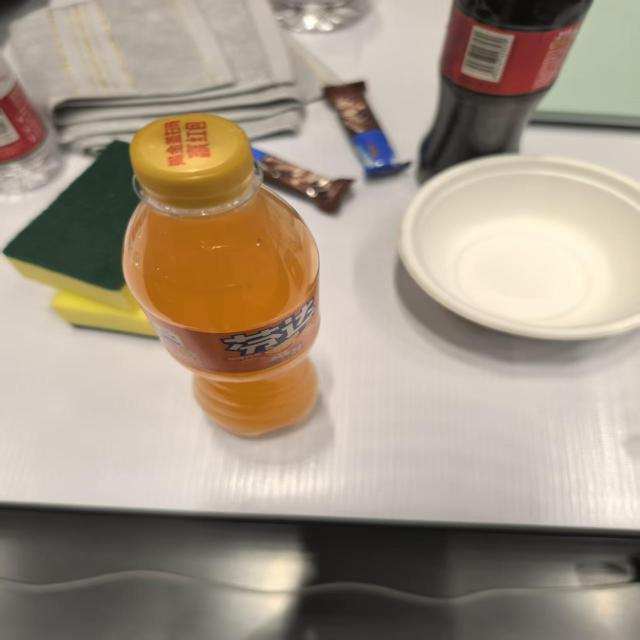orange: (212, 295, 326, 362)
